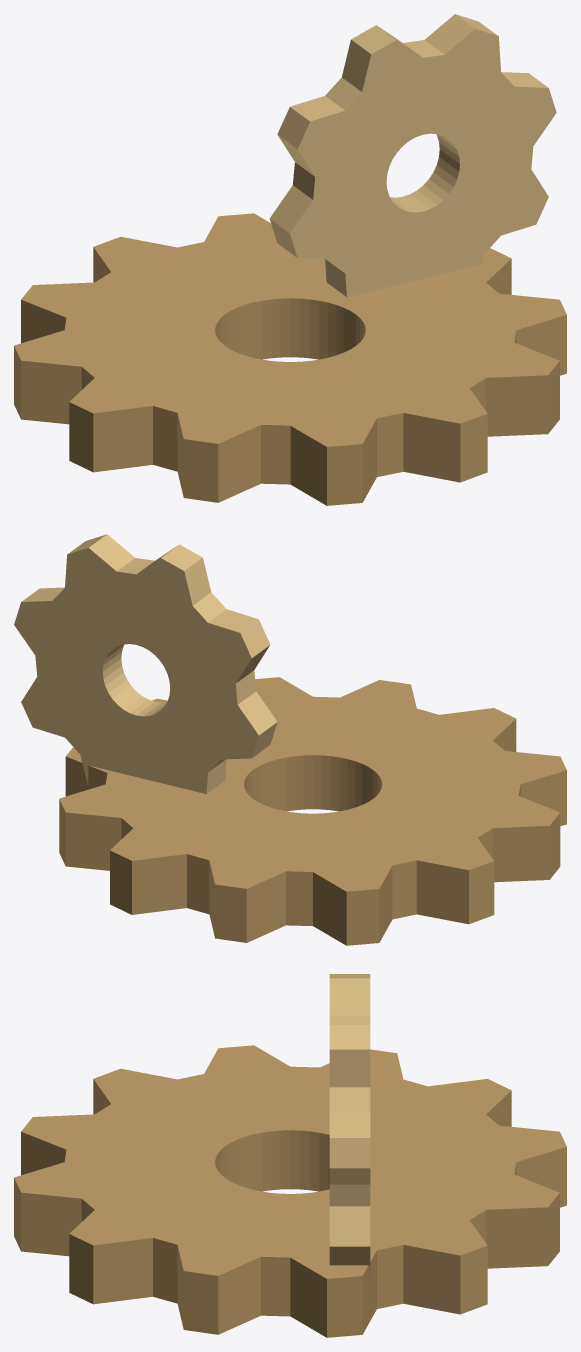
The model's file is gear.glb.
3 renders of one model, top to bottom at view 1: azimuth 30°, elevation 25°; view 2: azimuth 150°, elevation 25°; view 3: azimuth 270°, elevation 25°, orthographic. The views are drawn at different scales.
Parts seen in each view (by area): view 1: Large brass gear, Small upright gear; view 2: Large brass gear, Small upright gear; view 3: Large brass gear, Small upright gear.
Boxes of the visible parts, x1,y1,x2,y2 form: Large brass gear: [14, 213, 566, 505]; Small upright gear: [269, 14, 556, 296]; Large brass gear: [59, 677, 566, 945]; Small upright gear: [14, 534, 277, 793]; Large brass gear: [14, 1045, 566, 1337]; Small upright gear: [329, 974, 370, 1283].
Bounding box in the file's own units: 0.224 × 0.1239 × 0.2042.
